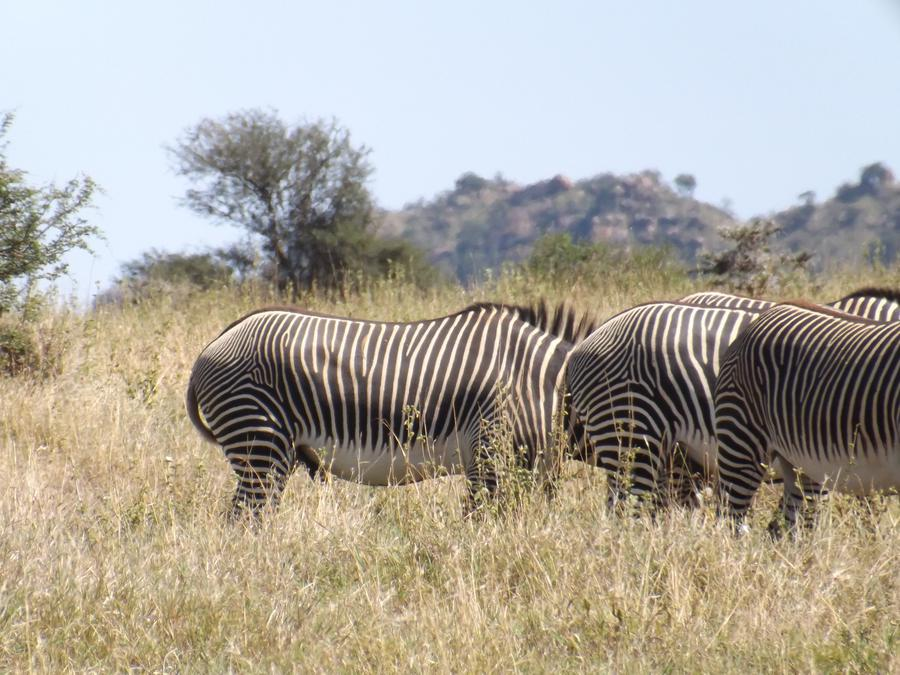zebra_grevys: (185, 280, 537, 464)
